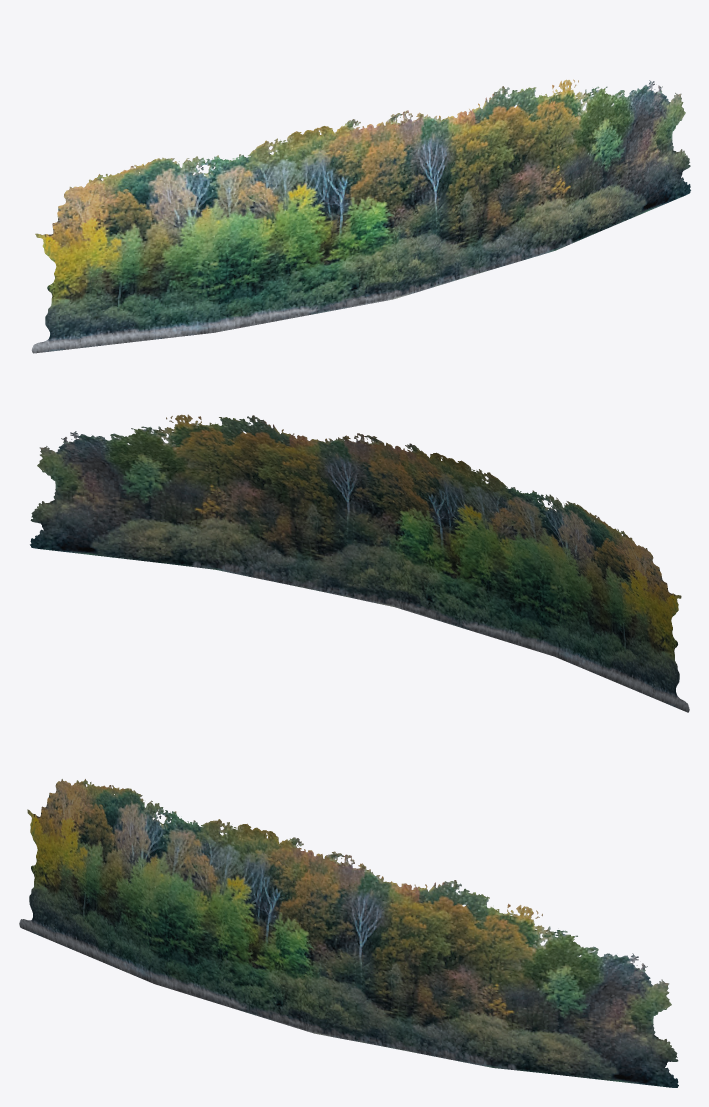
File: TreeLine02.fbx
3 renders of one model, top to bottom at view 1: azimuth 30°, elevation 25°; view 2: azimuth 150°, elevation 25°; view 3: azimuth 330°, elevation 25°, orthographic.
Parts seen in each view (by area): view 1: TreeLine02; view 2: TreeLine02; view 3: TreeLine02.
Part boxes in pixels (bbox=[...]): TreeLine02: bbox=[31, 79, 690, 353]; TreeLine02: bbox=[30, 414, 689, 712]; TreeLine02: bbox=[19, 779, 678, 1087].
Size of the model in its own units: 4.89 by 1.3 by 0.5866.
Materials: 1 (1 with a texture image).
